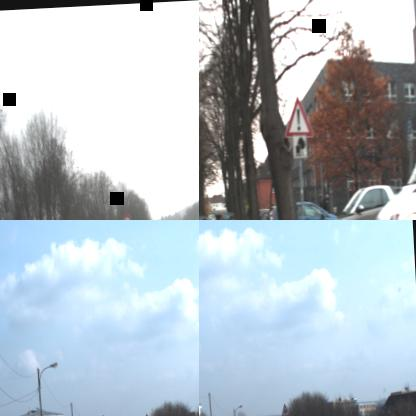DANGER: (282, 95, 313, 138)
no overtaking: (120, 213, 132, 220)
priority at next intersection: (280, 401, 290, 416), (142, 411, 152, 416)
